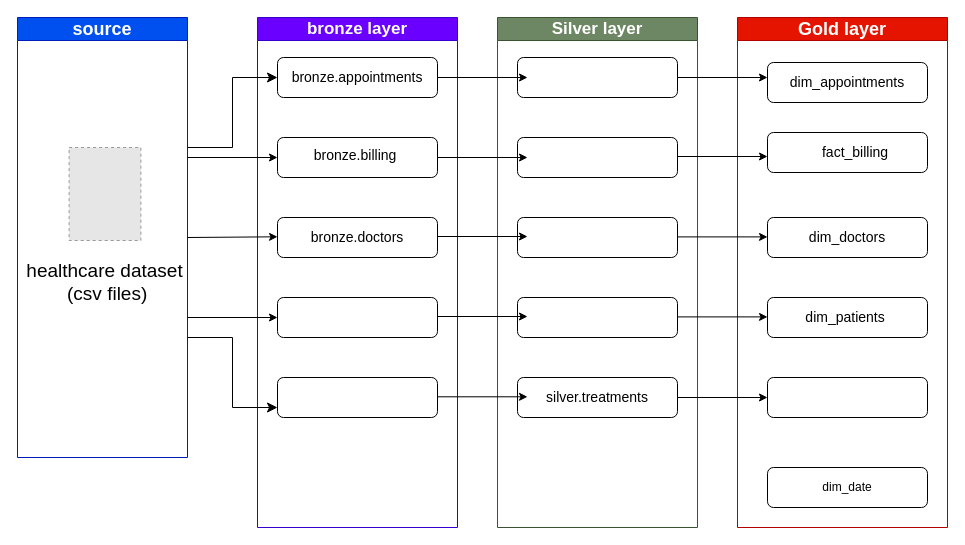
This 965x545 diagram has some shape labels left out. Grey dashed boxes stand in for pictures. The shapes that lost their labels are listed below. From the top down, each one's centre as x and y in pixels, then its label:
At [597,77]: "silver.appointments".
At [597,157]: "silver.billing".
At [597,237]: "silver.doctors".
At [357,317]: "bronze.patients".
At [597,317]: "silver.patients".
At [357,397]: "bronze.treatments".
At [847,397]: "dim_treatments".
